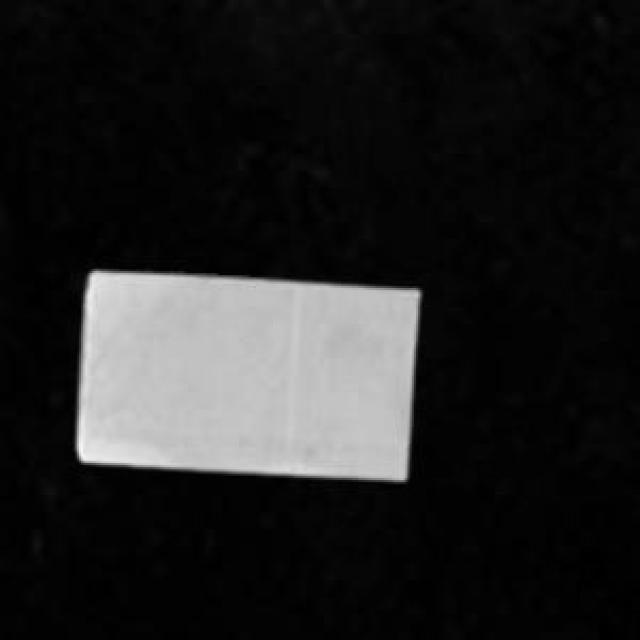paper: (75, 269, 414, 476)
